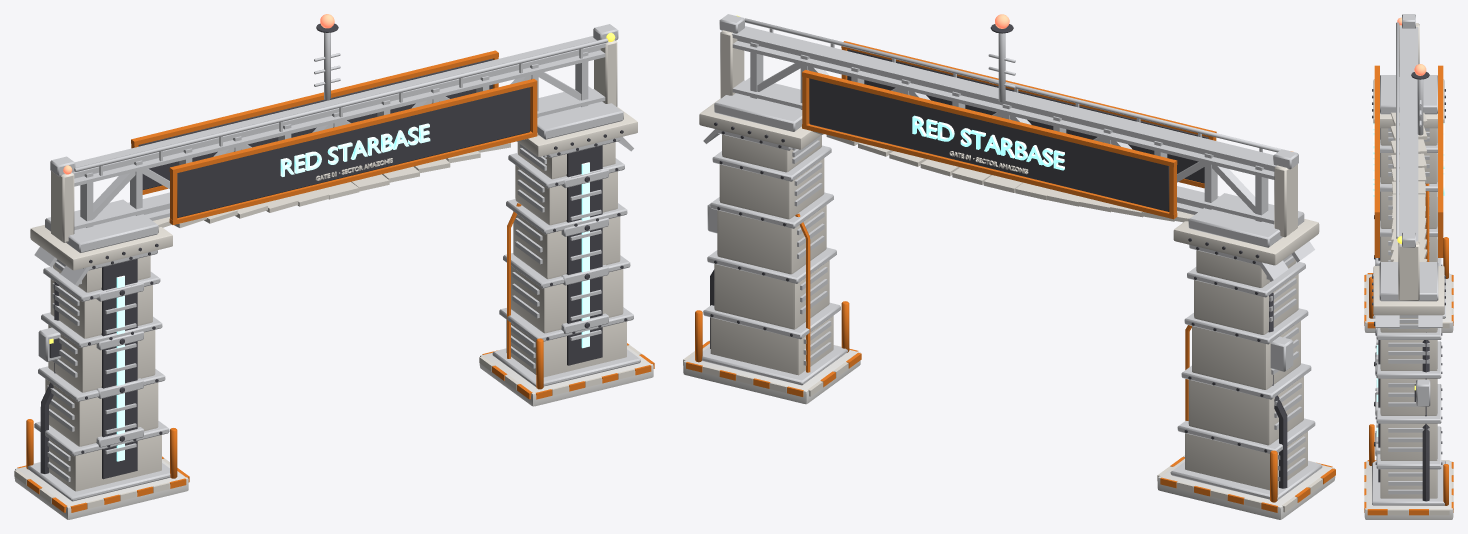
Rendered from arch.glb.
3 renders of one model, left to right at view 1: azimuth 30°, elevation 25°; view 2: azimuth 150°, elevation 25°; view 3: azimuth 270°, elevation 25°, orthographic. The views are drawn at different scales.
Parts seen in each view (by area): view 1: signback_-1, chord_4.06, spine_1, spine_-1, seg1_1, signrail_t_-1, signrail_t_1, seg1_-1, seg2_1, rail_top, seg0_-1, shoulder_-1 (+30 smaller); view 2: signback_1, chord_4.06, seg1_1, seg1_-1, seg2_1, seg2_-1, seg0_1, seg0_-1, seg3_1, seg3_-1, signrail_t_1, shoulder_-1 (+28 smaller); view 3: chord_4.06, shplate_1, seg1_1, shoulder_1, seg2_1, foot_1, shplate_-1, seg3_1, endpost_1, seg0_1, footcap_1, signrail_t_1 (+61 smaller).
Part boxes in pixels (x1,y1,x2,y2): signback_-1: (177,87,530,217); chord_4.06: (72,36,606,186); spine_1: (566,145,602,365); spine_-1: (101,259,137,479); seg1_1: (511,266,623,333); signrail_t_-1: (169,78,536,173); signrail_t_1: (131,50,498,145); seg1_-1: (45,379,158,446); seg2_1: (513,211,620,279); rail_top: (74,38,608,171); seg0_-1: (49,435,161,491); shoulder_-1: (30,225,172,270); signback_1: (809,78,1169,211); chord_4.06: (732,26,1276,179); seg1_1: (714,260,829,329); seg1_-1: (1188,376,1303,445); seg2_1: (717,205,826,274); seg2_-1: (1192,321,1300,389); seg0_1: (710,315,833,375); seg0_-1: (1185,431,1307,490); seg3_1: (719,158,824,219); seg3_-1: (1194,274,1298,334); signrail_t_1: (802,70,1177,167); shoulder_-1: (1173,219,1319,265); chord_4.06: (1399,27,1418,241); shplate_1: (1379,262,1438,301); seg1_1: (1380,423,1437,460); shoulder_1: (1373,266,1444,315); seg2_1: (1380,378,1437,415); foot_1: (1364,461,1453,519); shplate_-1: (1380,75,1437,114); seg3_1: (1380,340,1437,370); endpost_1: (1398,241,1419,300); seg0_1: (1380,469,1437,498); footcap_1: (1372,460,1445,505); signrail_t_1: (1438,65,1443,215).
Size of the model in its own units: 7.87 by 5.22 by 1.25.
